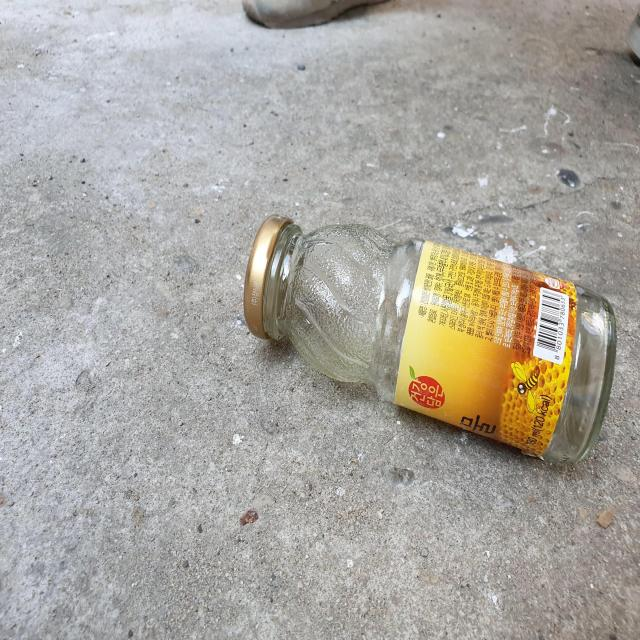glass: (244, 215, 618, 462)
